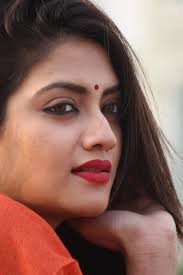indian_female: (1, 17, 134, 244)
